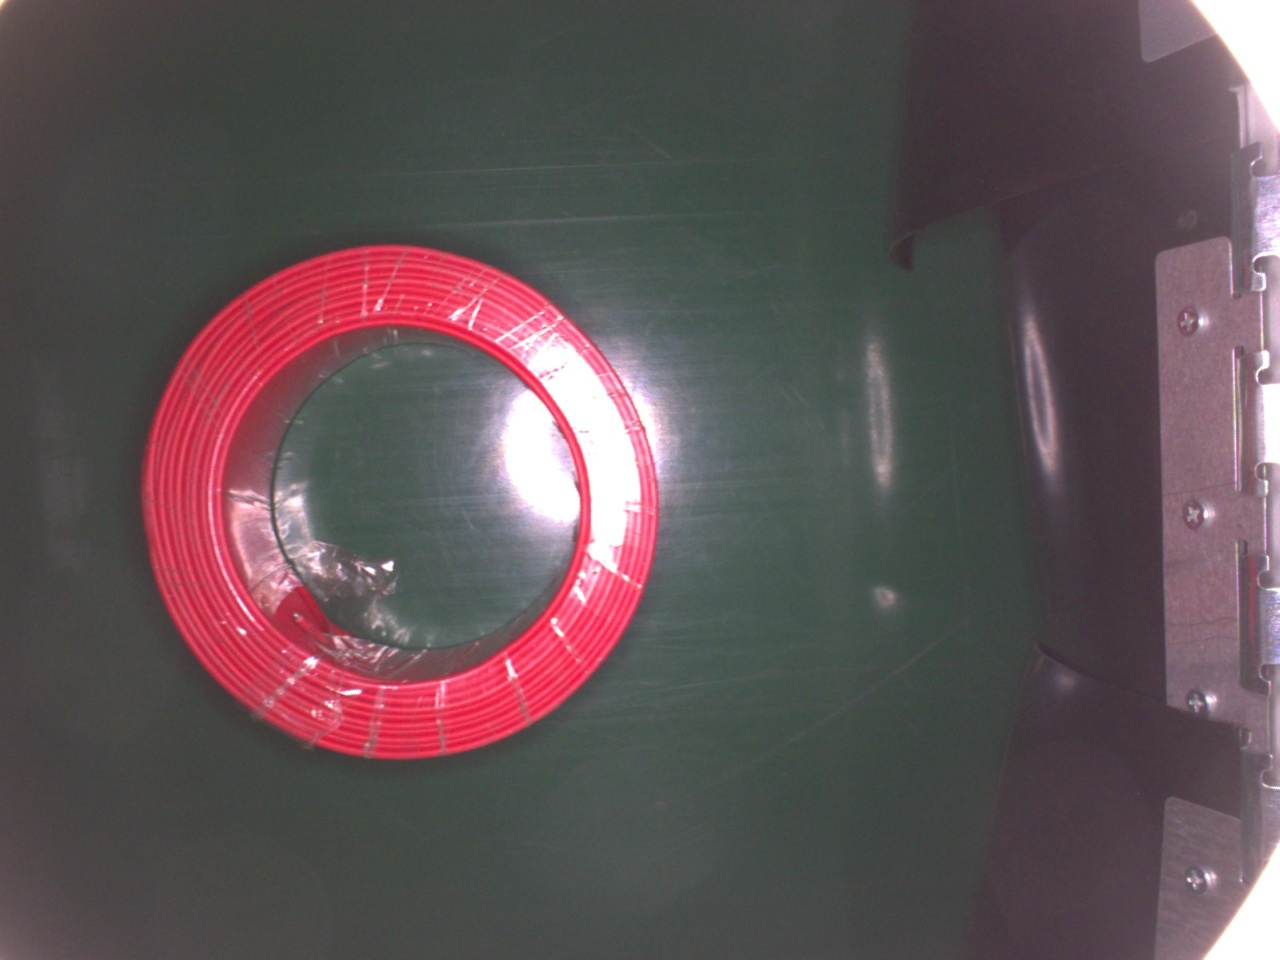red: (138, 241, 658, 762)
